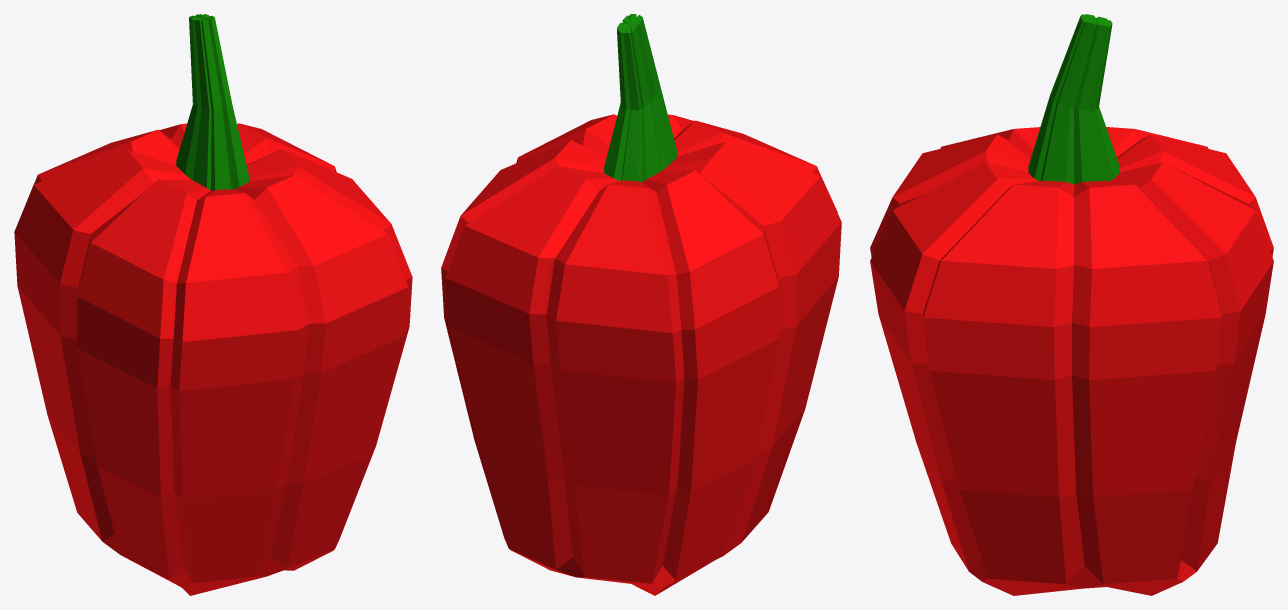
Rendered from pimentao.fbx.
3 views of the same model, side by side, from view 1: azimuth 30°, elevation 25°; view 2: azimuth 150°, elevation 25°; view 3: azimuth 270°, elevation 25° (orthographic). The views are drawn at different scales.
Visible parts, largest first — view 1: Cube; view 2: Cube; view 3: Cube.
Part boxes in pixels (<box>): Cube: <box>14,14,412,595</box>; Cube: <box>441,14,841,595</box>; Cube: <box>870,14,1273,595</box>.
Bounding box in the file's own units: 280 × 496 × 328.
